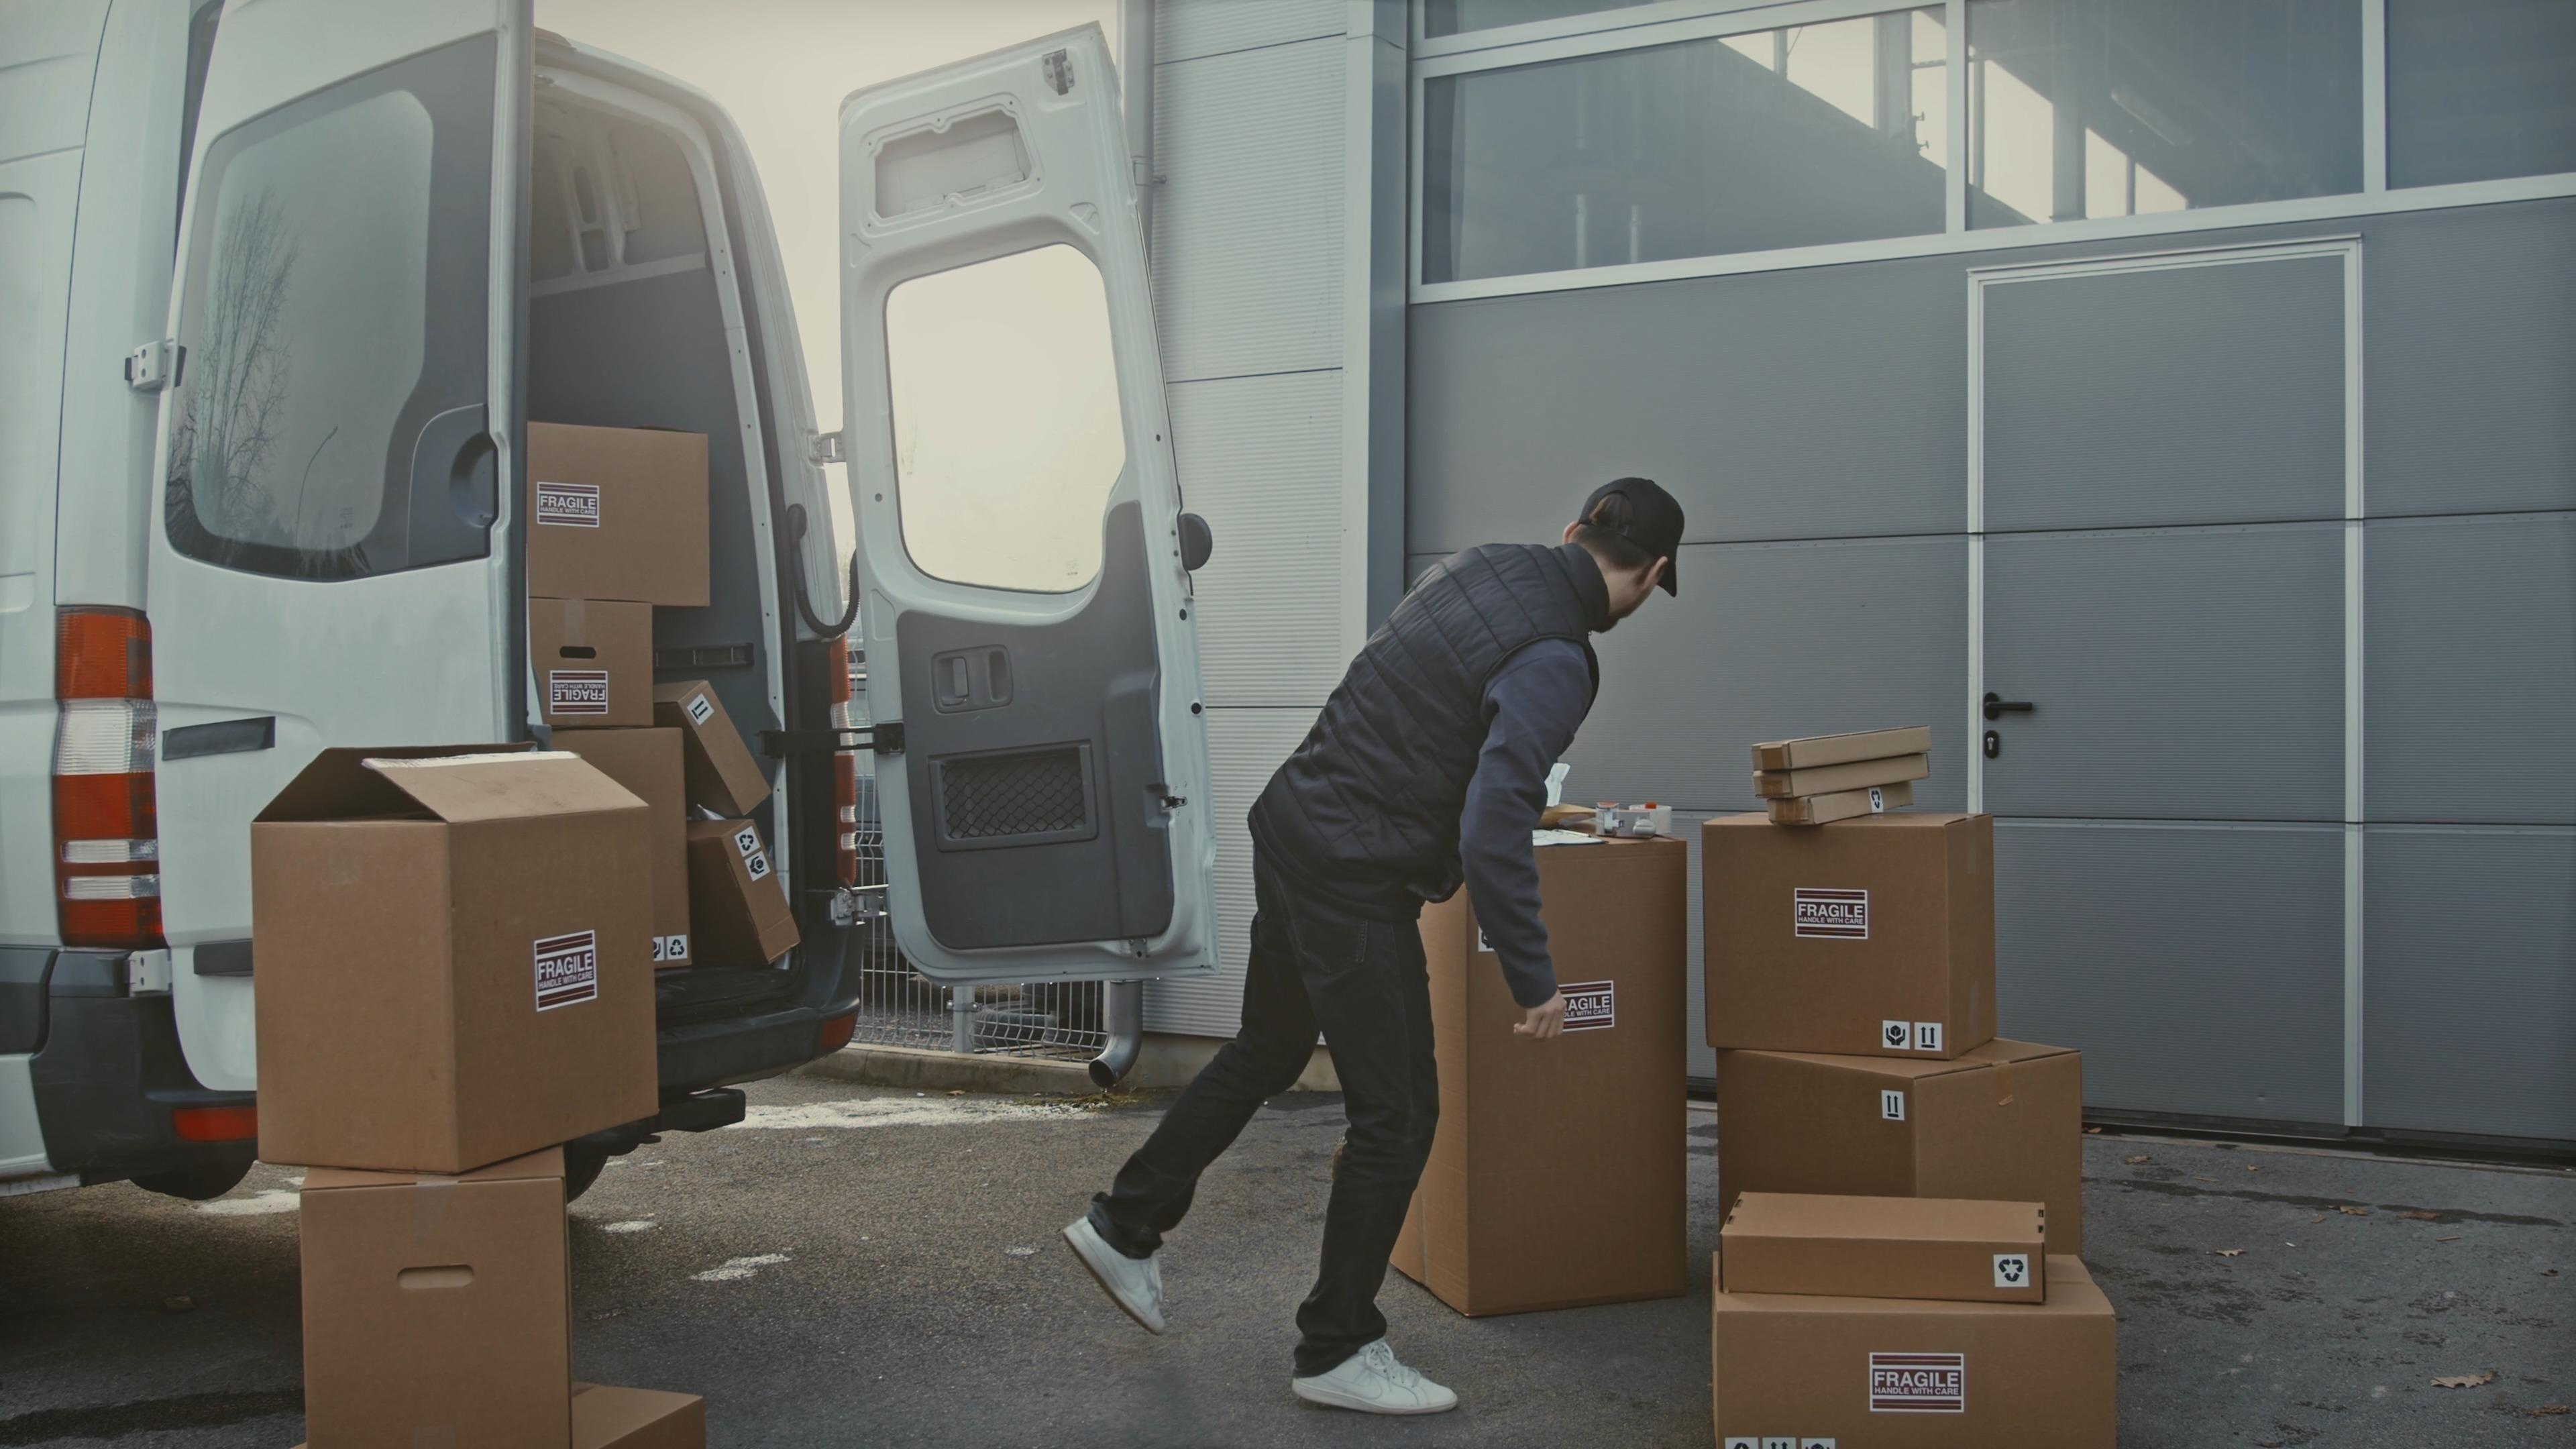-: (249, 741, 646, 1171), (1396, 833, 1691, 1313), (288, 1152, 568, 1449), (1725, 1253, 2120, 1449), (1704, 809, 1992, 1058), (1732, 1058, 2081, 1260), (1729, 1182, 2052, 1302), (513, 416, 713, 603), (531, 602, 656, 725)
